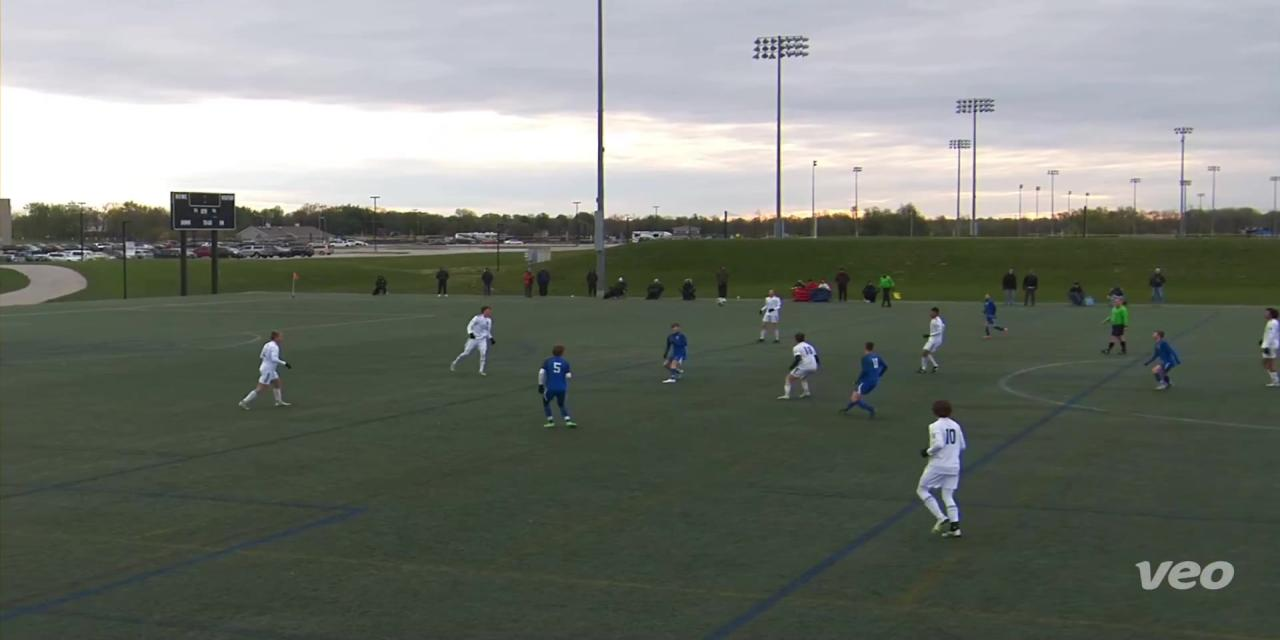sports ball: (715, 292, 732, 307)
